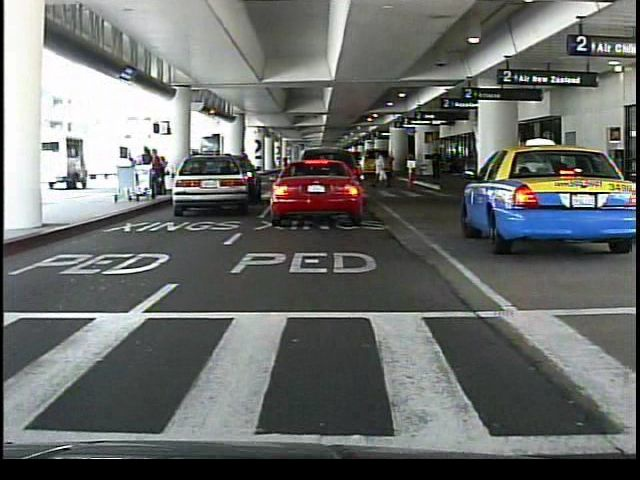person: (234, 145, 255, 201), (274, 156, 291, 206), (294, 150, 309, 203), (145, 147, 160, 198), (373, 150, 389, 189), (430, 150, 444, 185)
